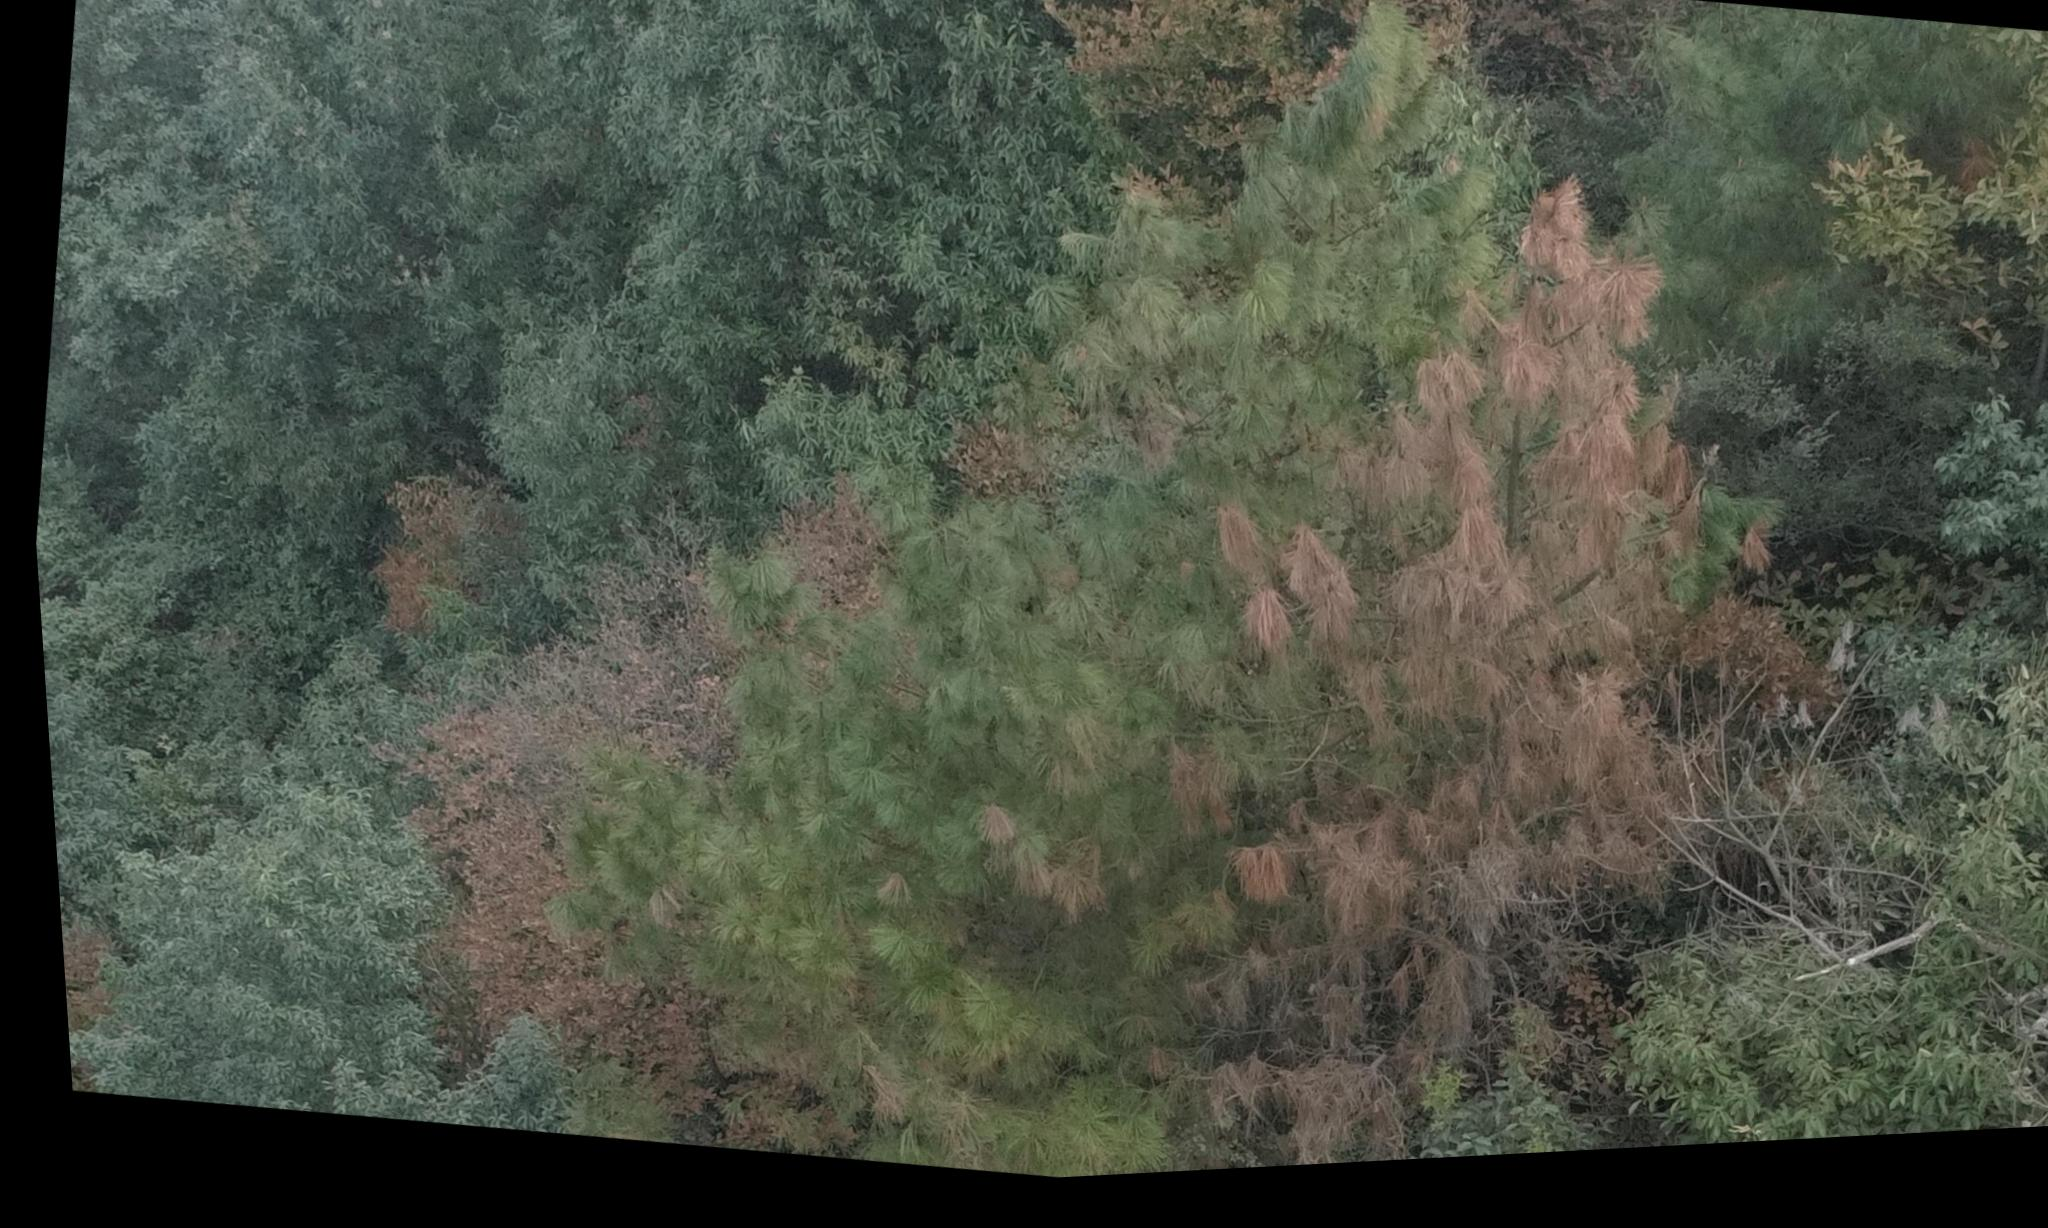heavy: (1137, 140, 1851, 1143)
